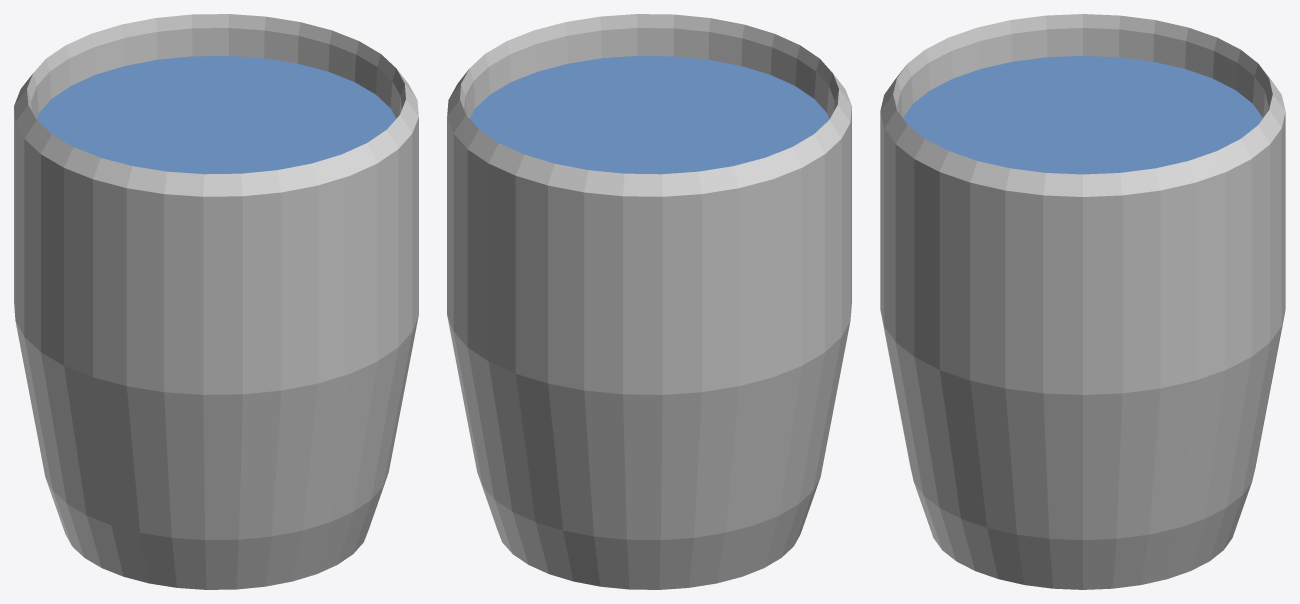
Rendered from Balde.fbx.
3 views of the same model, side by side, from view 1: azimuth 30°, elevation 25°; view 2: azimuth 150°, elevation 25°; view 3: azimuth 270°, elevation 25° (orthographic).
Visible parts, largest first — view 1: Circle, Circle.001; view 2: Circle, Circle.001; view 3: Circle, Circle.001.
Part boxes in pixels (x1,y1,x2,y2): Circle: (14,14,418,589); Circle.001: (36,56,396,174); Circle: (447,14,851,589); Circle.001: (469,56,829,174); Circle: (880,14,1285,589); Circle.001: (903,56,1262,174).
Bounding box in the file's own units: 66.49 × 78.06 × 66.49.
